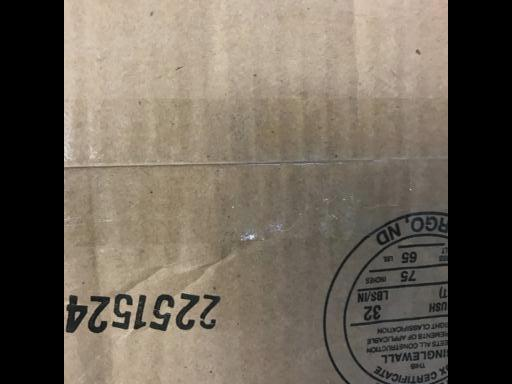cardboard: (34, 5, 446, 382)
